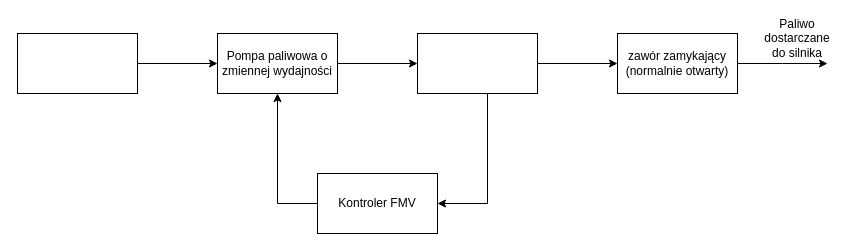
The diagram is 853 pixels wide and 251 high, and some of its shapes have lost their labels. Each missing label, with the centre of its shape:
Przepływomierz: point (477, 63)
Zbiornik paliwa: point (77, 63)
